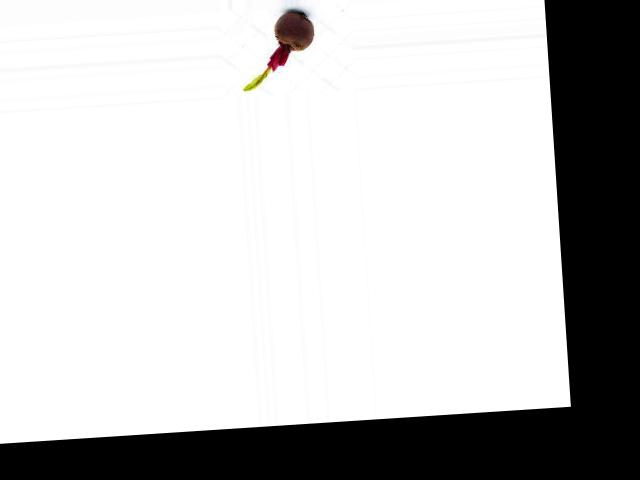beet: (239, 10, 318, 90)
